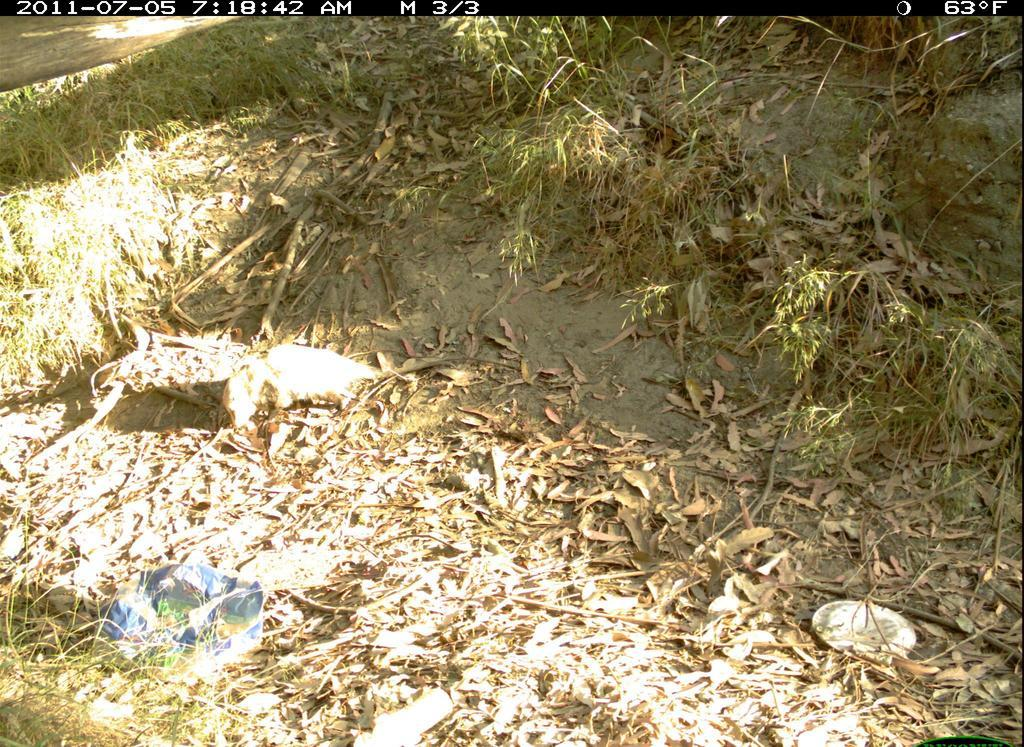opossum: (226, 345, 466, 430)
